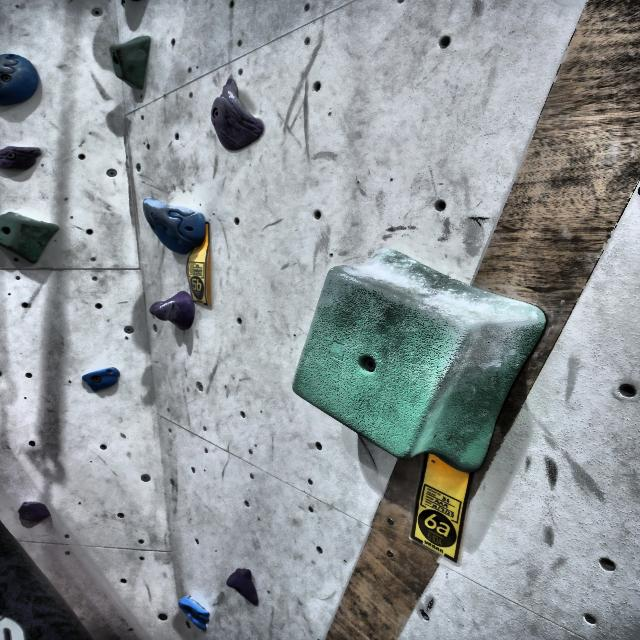Hold: (298, 244, 536, 469), (206, 76, 266, 150), (96, 35, 160, 95), (145, 192, 203, 252), (0, 211, 66, 261), (220, 559, 276, 611), (0, 50, 38, 120), (160, 592, 214, 634), (13, 495, 59, 530), (0, 139, 49, 170), (82, 370, 124, 394)
